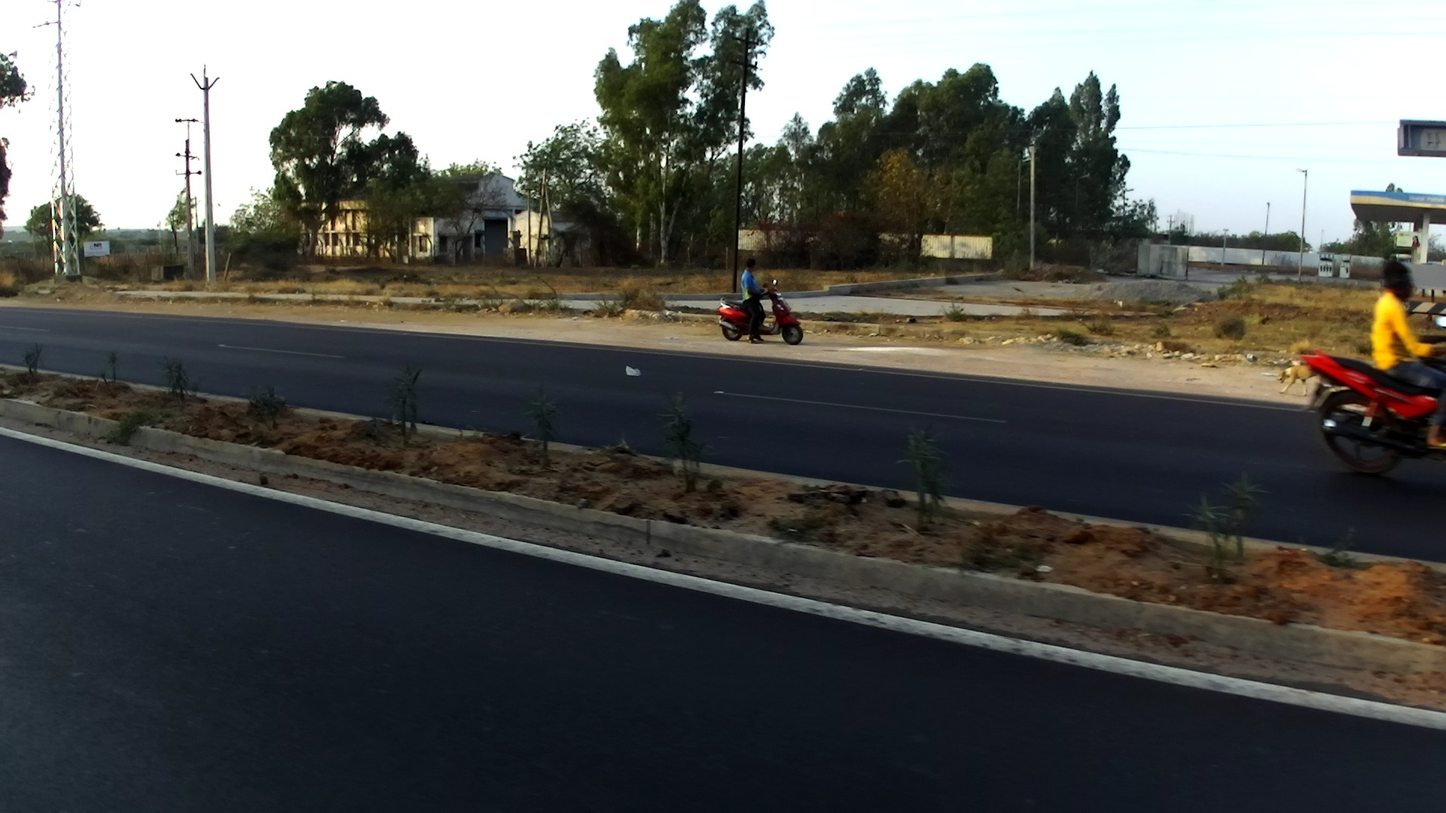animal: (1274, 359, 1318, 397)
motorcycle: (1299, 312, 1446, 477), (715, 275, 804, 346)
rider: (1365, 257, 1444, 450), (737, 256, 776, 345)
